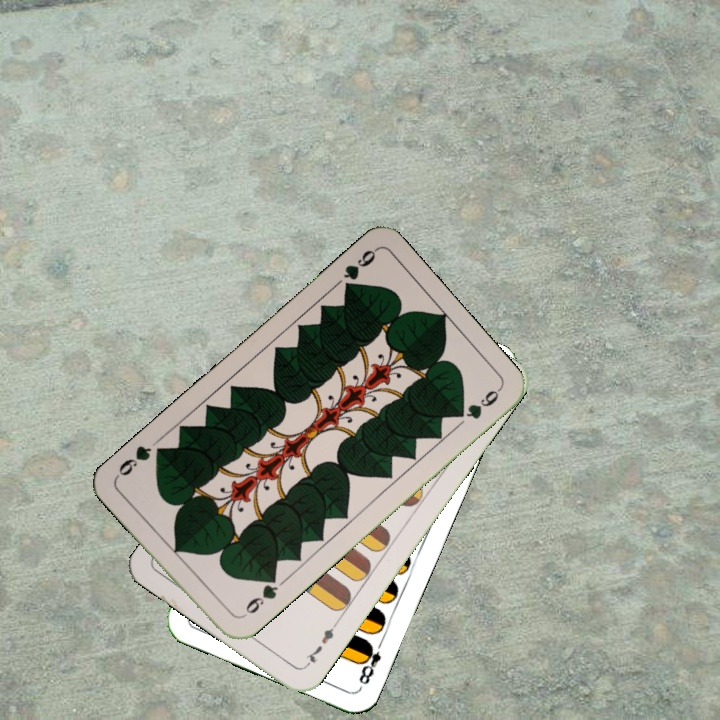E7: (300, 618, 340, 670)
E8: (354, 635, 386, 687)
G9: (237, 571, 281, 621), (339, 245, 380, 297)
